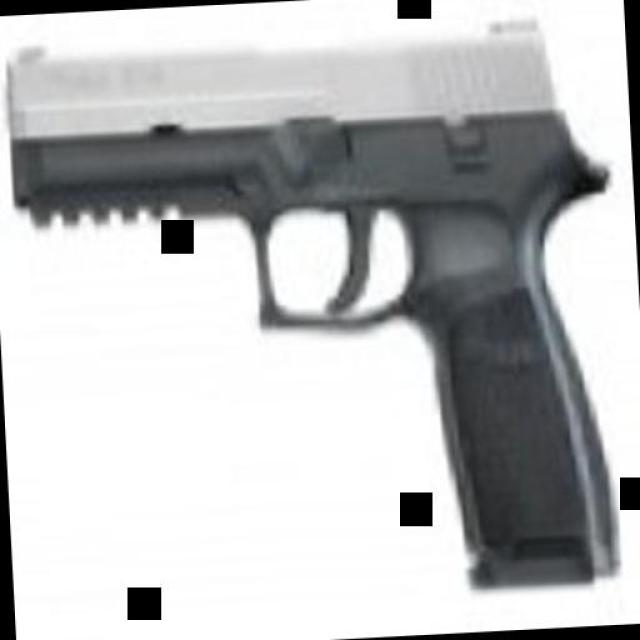gun: (0, 3, 632, 616)
